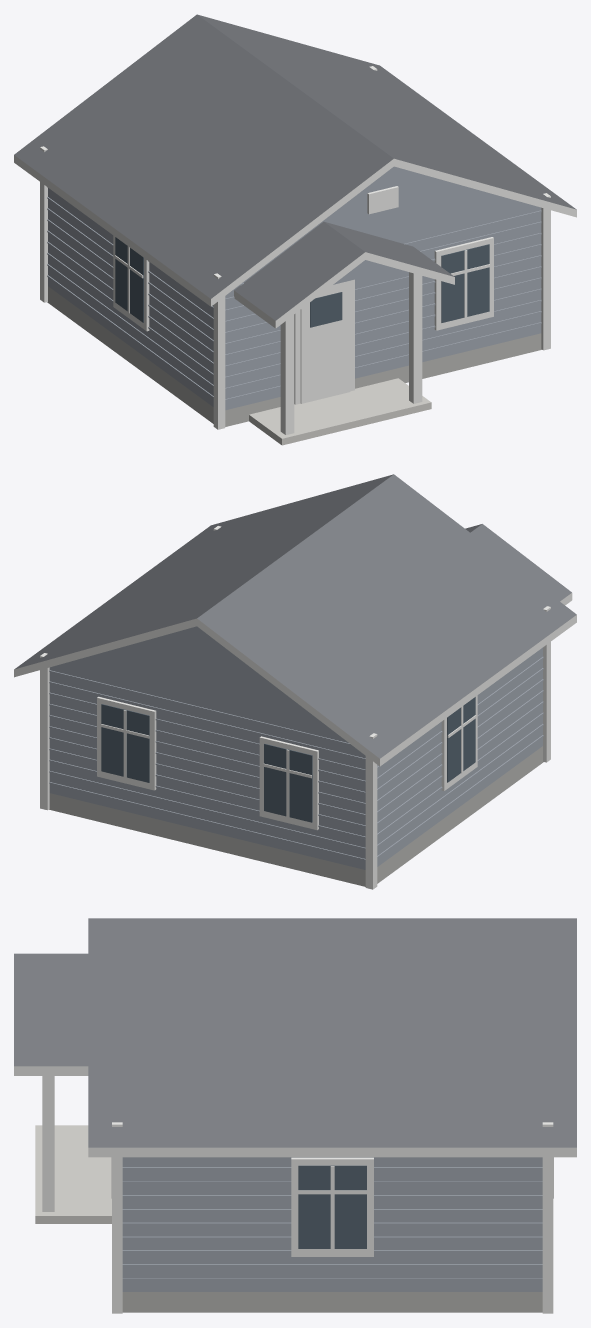
The model's file is conversion-cottage.glb.
3 views of the same model, one above another, from view 1: azimuth 30°, elevation 25°; view 2: azimuth 150°, elevation 25°; view 3: azimuth 270°, elevation 25° (orthographic). The views are drawn at different scales.
Parts seen in each view (by area): view 1: The Conversion (cottage); view 2: The Conversion (cottage); view 3: The Conversion (cottage).
Part boxes in pixels (<box>): The Conversion (cottage): <box>14,14,576,445</box>; The Conversion (cottage): <box>14,474,576,889</box>; The Conversion (cottage): <box>14,918,576,1313</box>.
Size of the model in its own units: 6.86 by 4.27 by 7.37.
